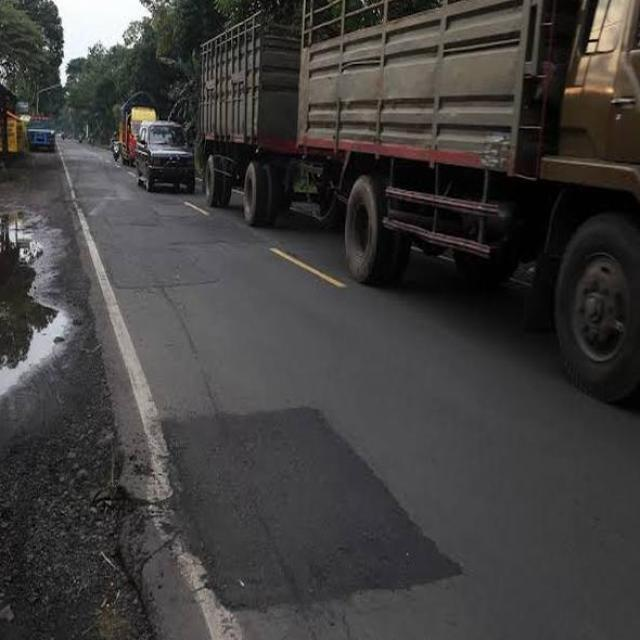Pinggir: (37, 407, 198, 640)
Sambungan: (162, 408, 457, 607)
